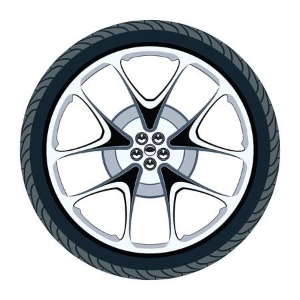tire: (18, 17, 282, 281)
